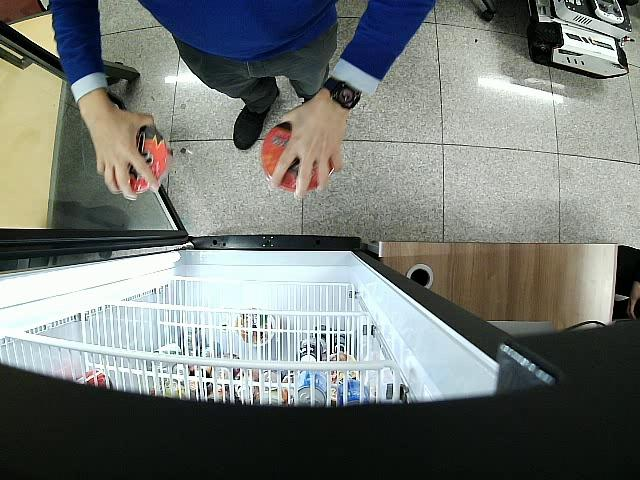00_hand: (78, 100, 161, 200), (268, 101, 344, 201)
01_shinRamen_L: (260, 120, 333, 191), (128, 125, 175, 193)
